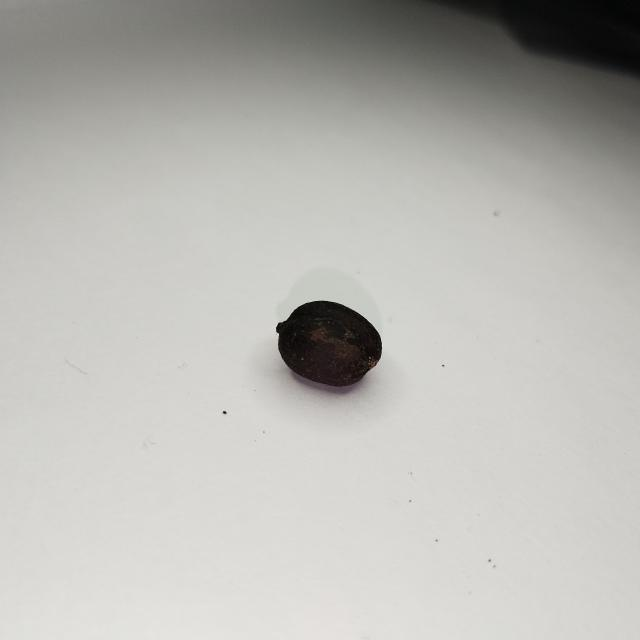Danado: (276, 300, 381, 388)
